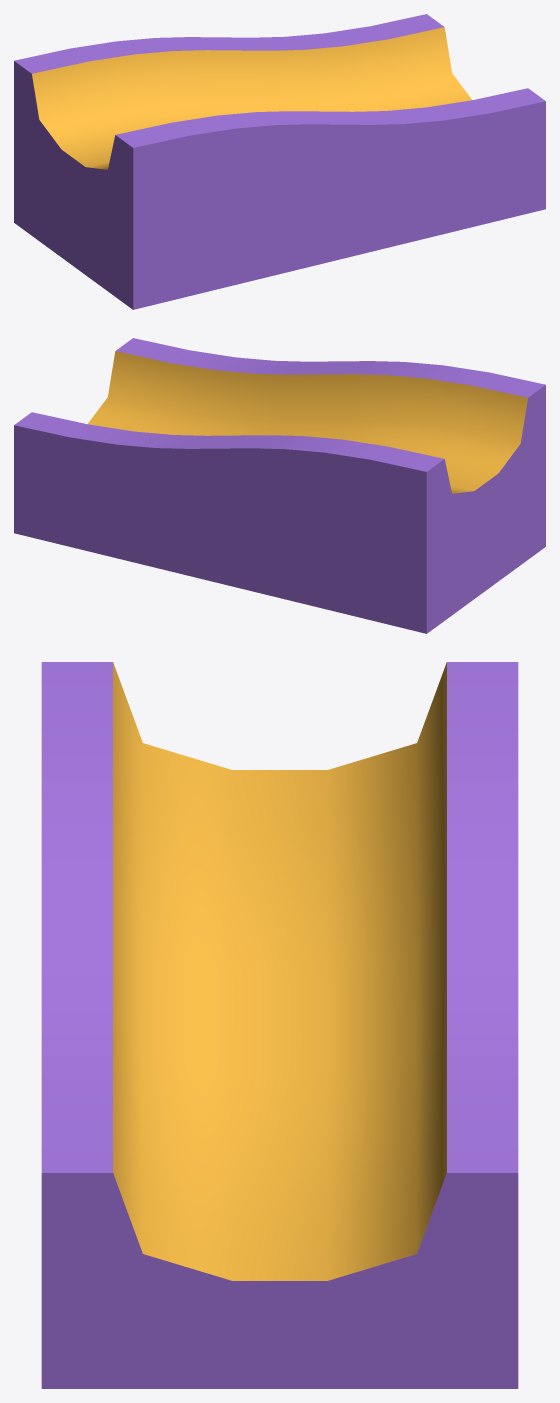
File: ramp-long-solid-a-col.glb
The picture shows the model from 3 angles, top to bottom: view 1: azimuth 30°, elevation 25°; view 2: azimuth 150°, elevation 25°; view 3: azimuth 270°, elevation 25°; orthographic projection. The views are drawn at different scales.
Visible parts, largest first — view 1: ramp-long-solid-a-col; view 2: ramp-long-solid-a-col; view 3: ramp-long-solid-a-col.
Boxes of the visible parts, box(x1,y1,x2,y2) form: ramp-long-solid-a-col: box(14, 14, 545, 309); ramp-long-solid-a-col: box(14, 338, 545, 633); ramp-long-solid-a-col: box(41, 662, 518, 1388).
Size of the model in its own units: 2 by 0.75 by 1.
1 material, 1 textured.
